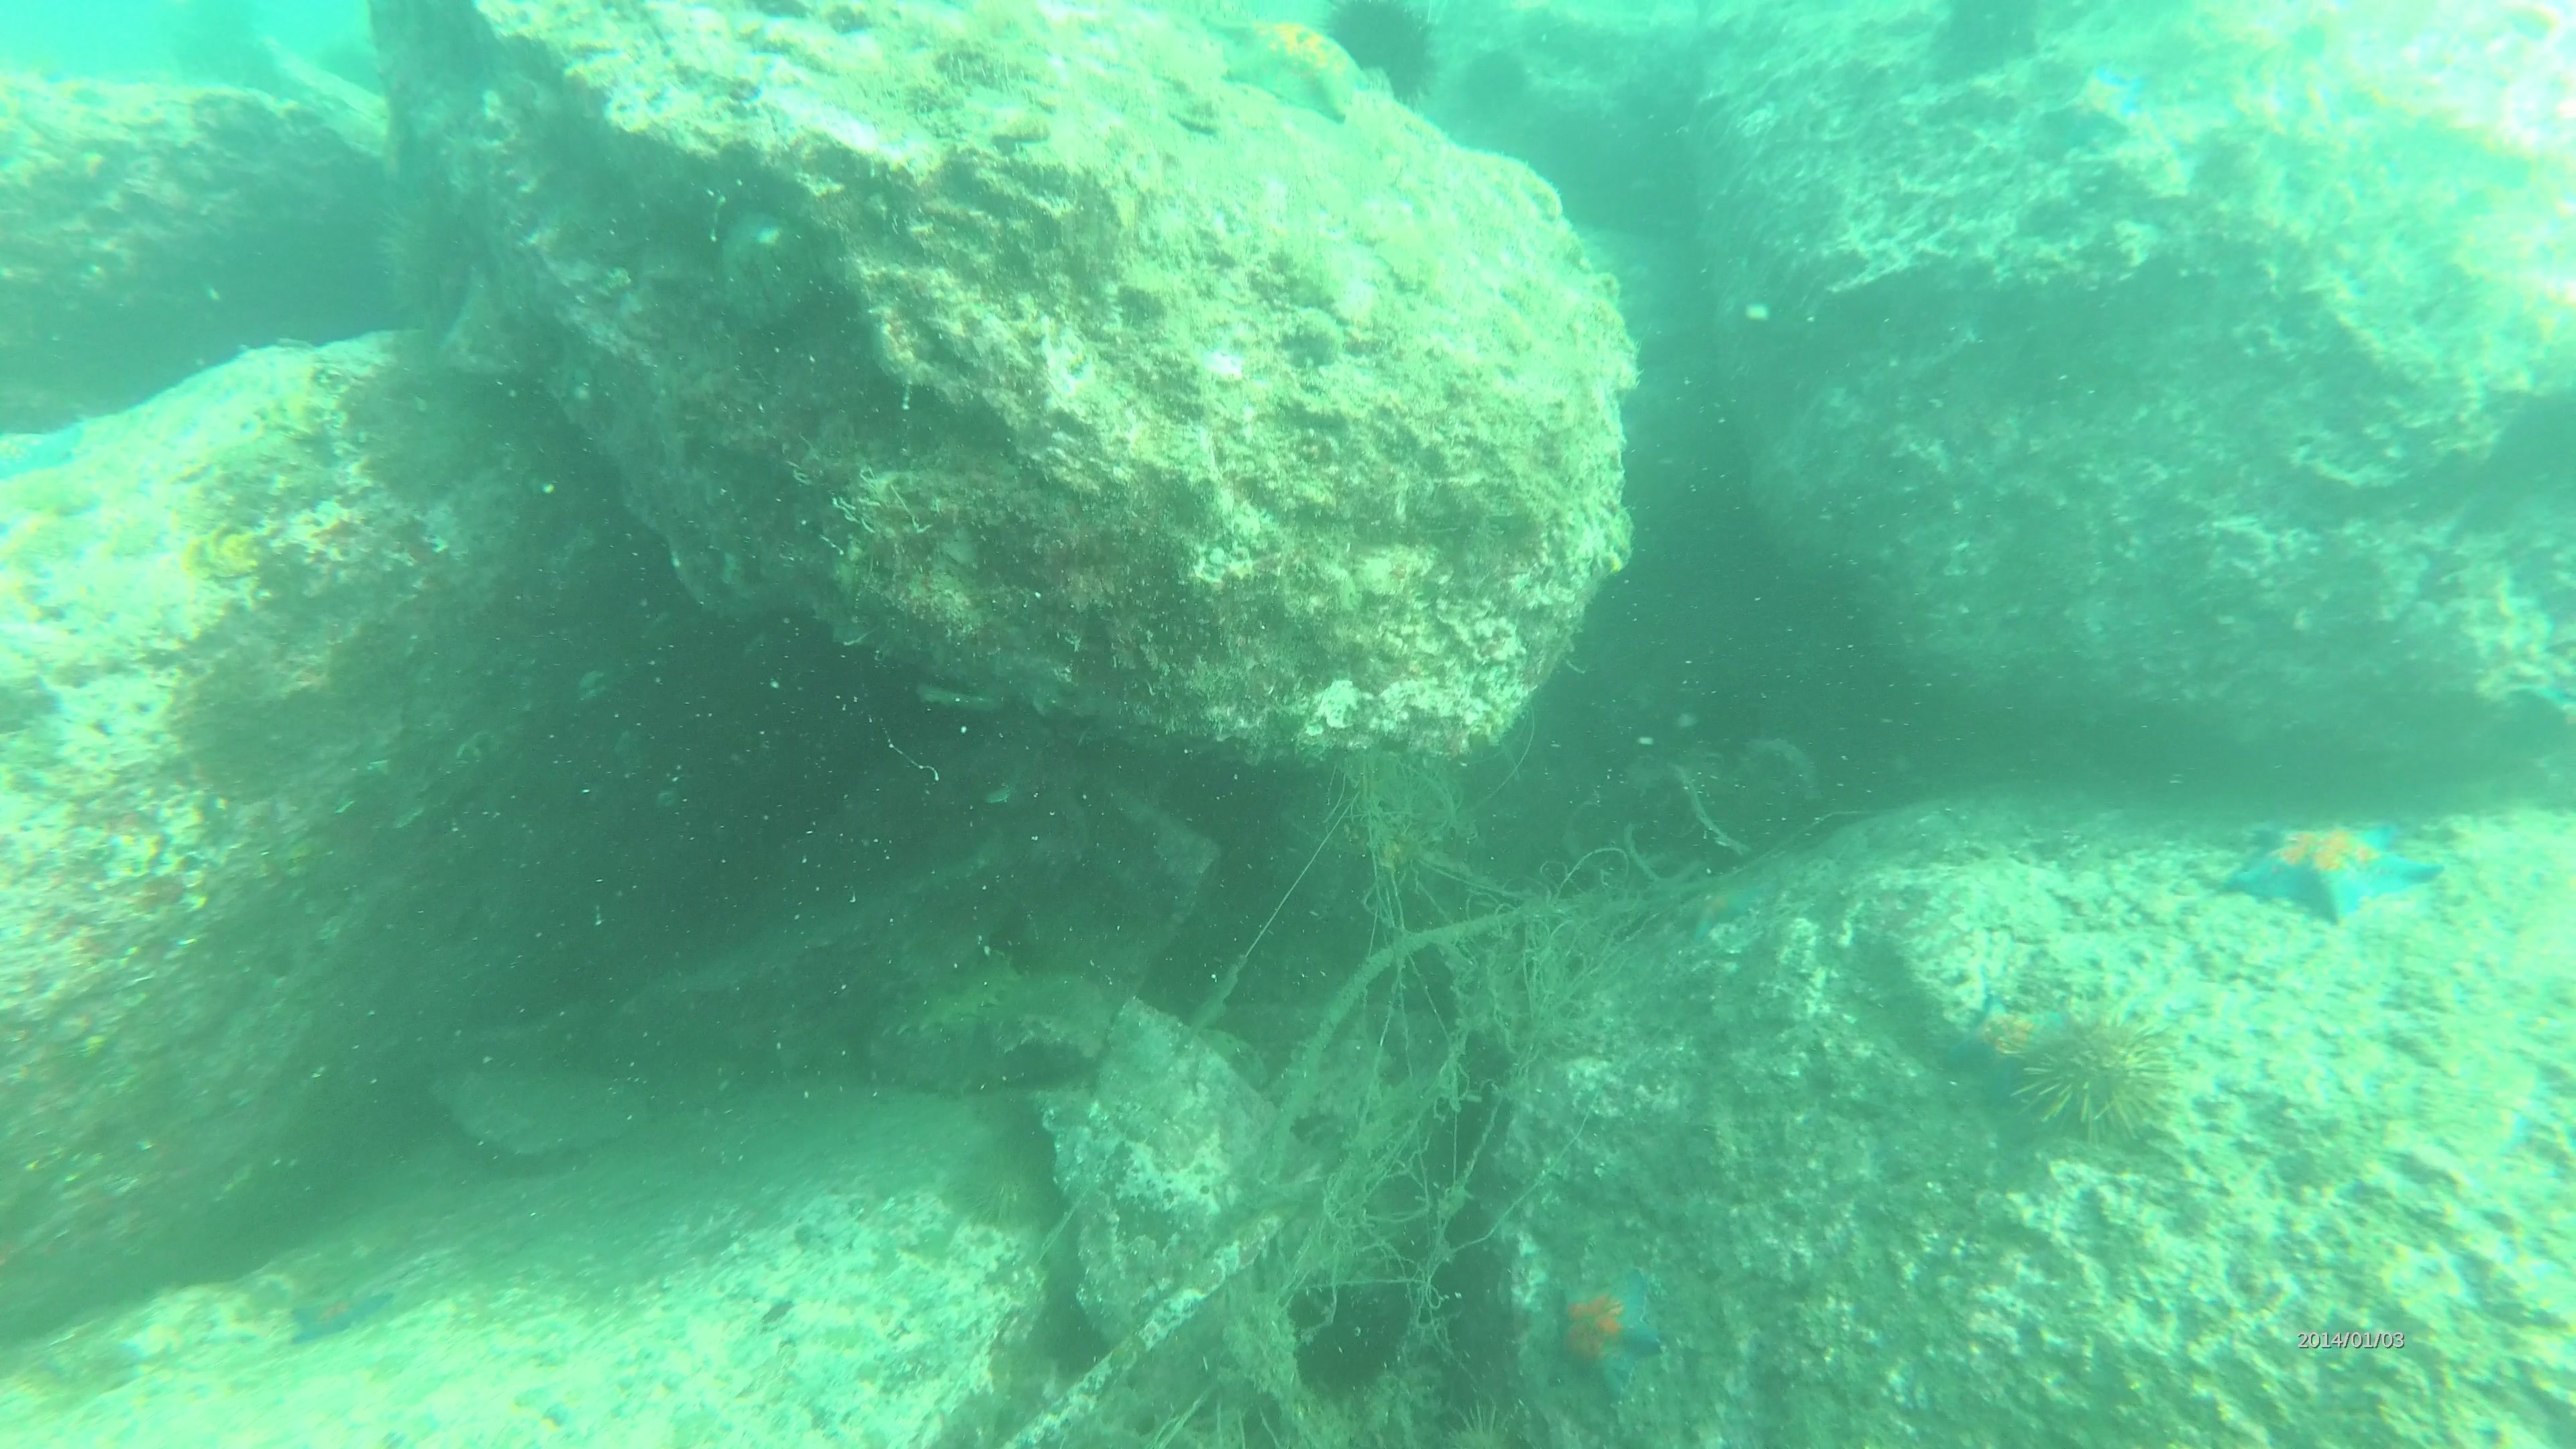echinus: (2008, 996, 2190, 1157), (934, 1111, 1069, 1238), (1316, 0, 1447, 111), (1918, 0, 2047, 83)
holothurian: (867, 952, 1023, 1035)
starfish: (2219, 810, 2445, 932), (1200, 5, 1376, 129), (1534, 1254, 1674, 1392), (1937, 978, 2082, 1102), (276, 1263, 412, 1350), (2036, 57, 2155, 154)
